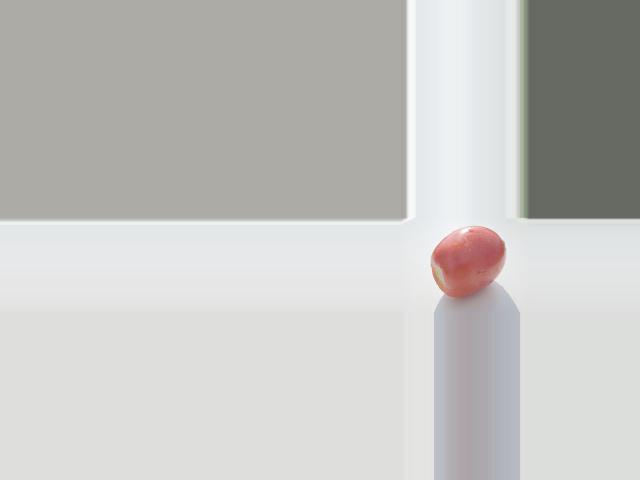tomato: (430, 225, 506, 297)
